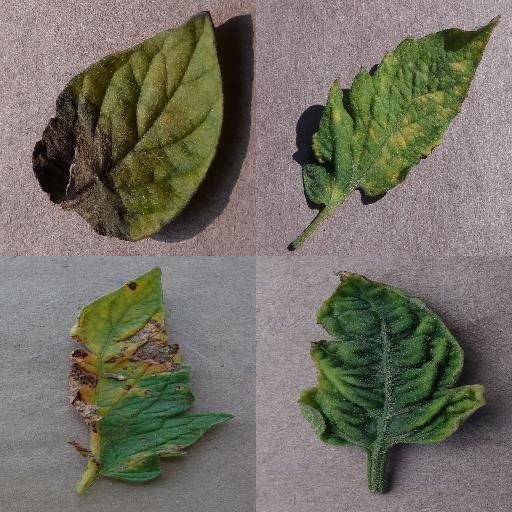Early Blight: (68, 266, 234, 482)
Late Blight: (33, 9, 225, 243)
Leaf Mold: (304, 16, 500, 206)
Yellow Leaf Curl Virus: (299, 268, 488, 456)
